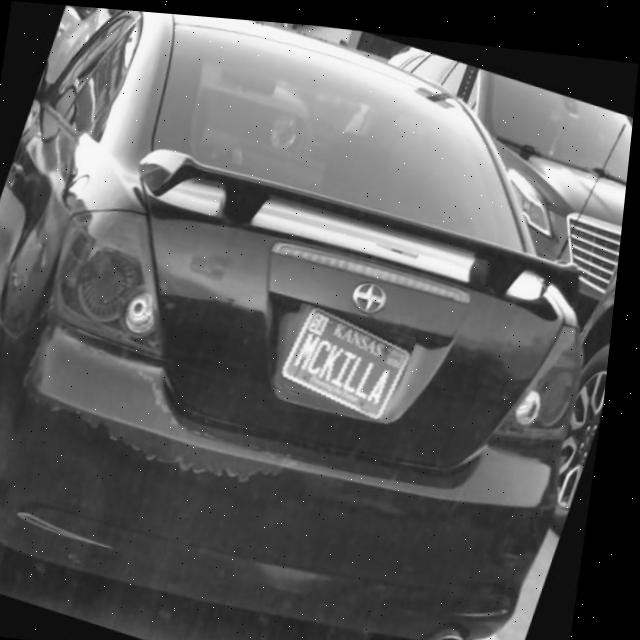LicensePlate: (284, 300, 418, 414)
